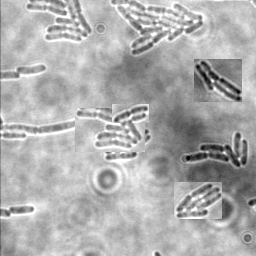Dividing: (112, 104, 149, 123), (8, 204, 35, 215)
Microcolony: (109, 1, 205, 56), (75, 108, 145, 152), (25, 1, 94, 44), (184, 130, 248, 167), (194, 59, 242, 102), (174, 182, 222, 219), (16, 63, 48, 74)
